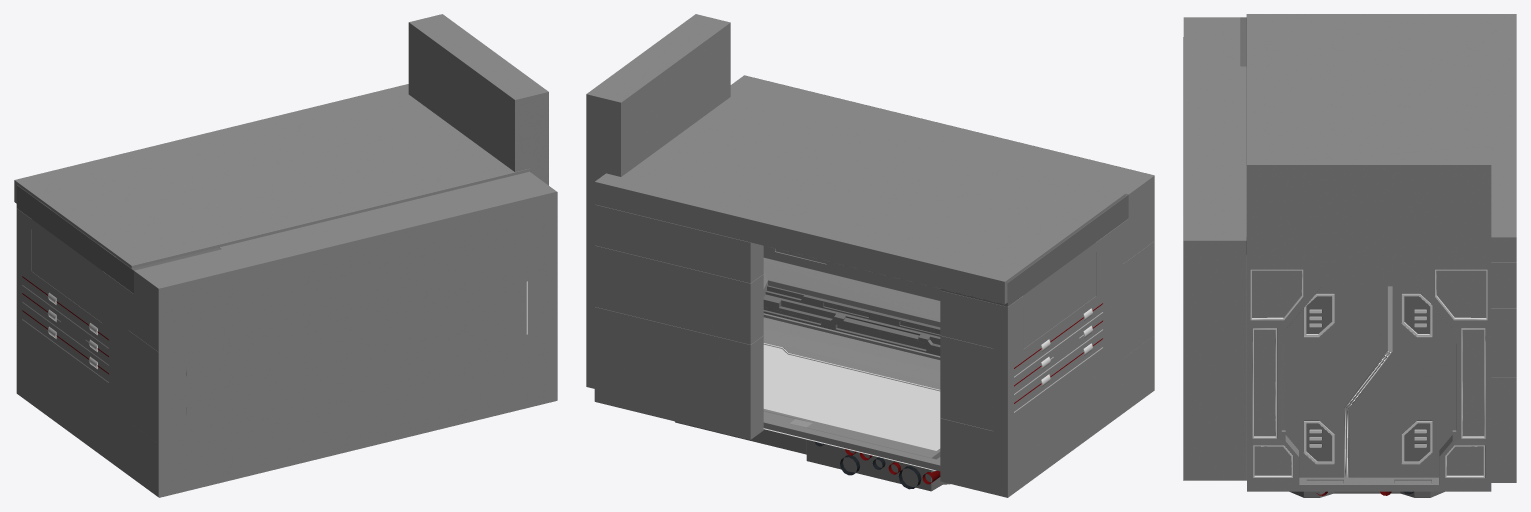
Rendered from Ship_Room_Airlock_001.fbx.
The picture shows the model from 3 angles, left to right: view 1: azimuth 30°, elevation 25°; view 2: azimuth 150°, elevation 25°; view 3: azimuth 270°, elevation 25°; orthographic projection. The views are drawn at different scales.
Parts seen in each view (by area): view 1: Ship_Room_Airlock_Wall_Curved_001, Ship_Room_Airlock_Ceiling_001, Ship_Room_Airlock_Doorframe_001, Ship_Room_Airlock_Pipes_Curved_001; view 2: Ship_Room_Airlock_Wall_Curved_001, Ship_Room_Airlock_Ceiling_001, Ship_Room_Airlock_Wall_Short_001, Ship_Room_Airlock_Floor_001, Ship_Room_Airlock_Doorframe_001, Ship_Room_Airlock_Pipes_Curved_001, Ship_Room_Airlock_Cables_Floor_001; view 3: Ship_Room_Airlock_Doorframe_001, Ship_Room_Airlock_Ceiling_001, Ship_Room_Airlock_Door_001, Ship_Room_Airlock_Wall_Curved_001, Ship_Room_Airlock_Wall_Short_001, Ship_Room_Airlock_Floor_001.
Boxes of the visible parts, x1,y1,x2,y2 form: Ship_Room_Airlock_Wall_Curved_001: (16, 171, 557, 497); Ship_Room_Airlock_Ceiling_001: (14, 84, 529, 293); Ship_Room_Airlock_Doorframe_001: (408, 14, 548, 185); Ship_Room_Airlock_Pipes_Curved_001: (22, 276, 108, 382); Ship_Room_Airlock_Wall_Curved_001: (730, 75, 1154, 497); Ship_Room_Airlock_Ceiling_001: (594, 97, 1128, 306); Ship_Room_Airlock_Wall_Short_001: (594, 204, 763, 439); Ship_Room_Airlock_Floor_001: (675, 317, 950, 491); Ship_Room_Airlock_Doorframe_001: (586, 14, 730, 388); Ship_Room_Airlock_Pipes_Curved_001: (1014, 303, 1102, 412); Ship_Room_Airlock_Cables_Floor_001: (814, 441, 940, 489); Ship_Room_Airlock_Doorframe_001: (1247, 146, 1491, 491); Ship_Room_Airlock_Ceiling_001: (1241, 14, 1516, 262); Ship_Room_Airlock_Door_001: (1285, 286, 1452, 477); Ship_Room_Airlock_Wall_Curved_001: (1183, 17, 1246, 480); Ship_Room_Airlock_Wall_Short_001: (1491, 262, 1516, 482); Ship_Room_Airlock_Floor_001: (1289, 491, 1444, 497).
Size of the model in its own units: 6.94 by 5.11 by 4.16.
